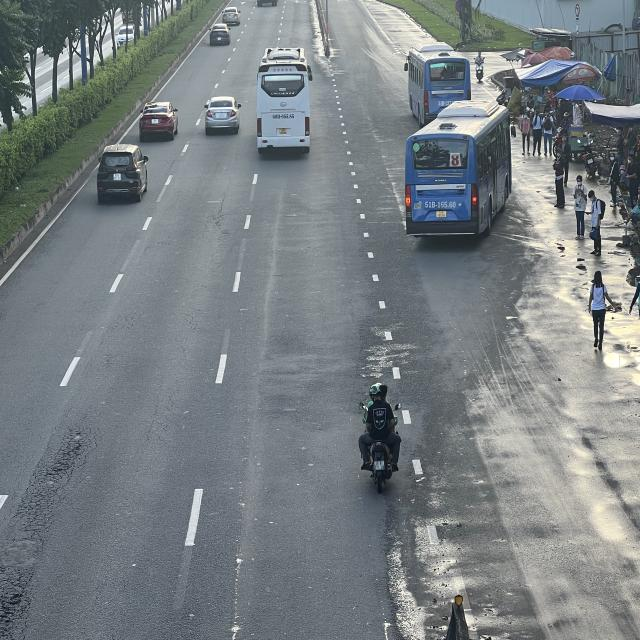car: (98, 143, 150, 200), (141, 102, 180, 141), (203, 96, 241, 134), (209, 24, 232, 48), (223, 3, 242, 26)
coach: (404, 98, 512, 240), (255, 47, 312, 152), (406, 46, 472, 126)
